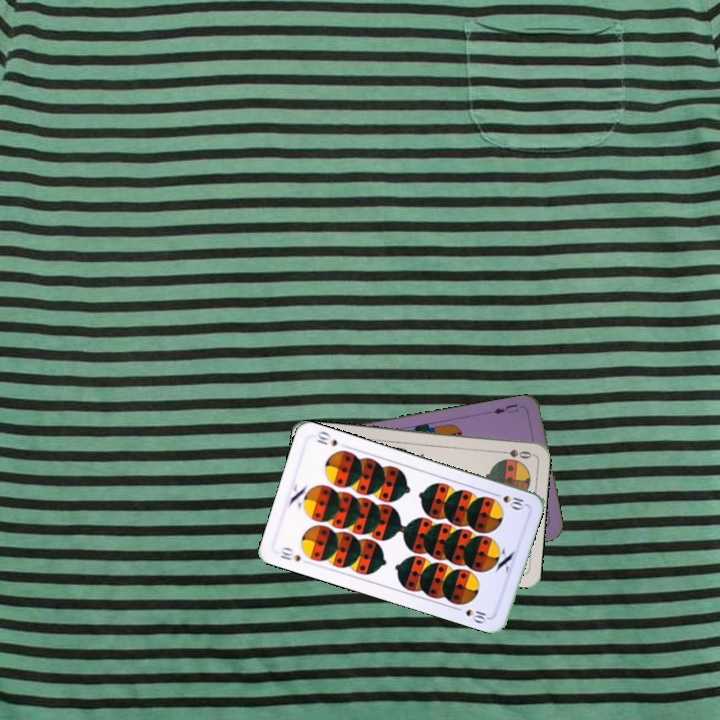EU: (489, 400, 521, 417)
S10: (489, 489, 528, 512), (276, 548, 303, 564)
SO: (494, 445, 534, 461)
